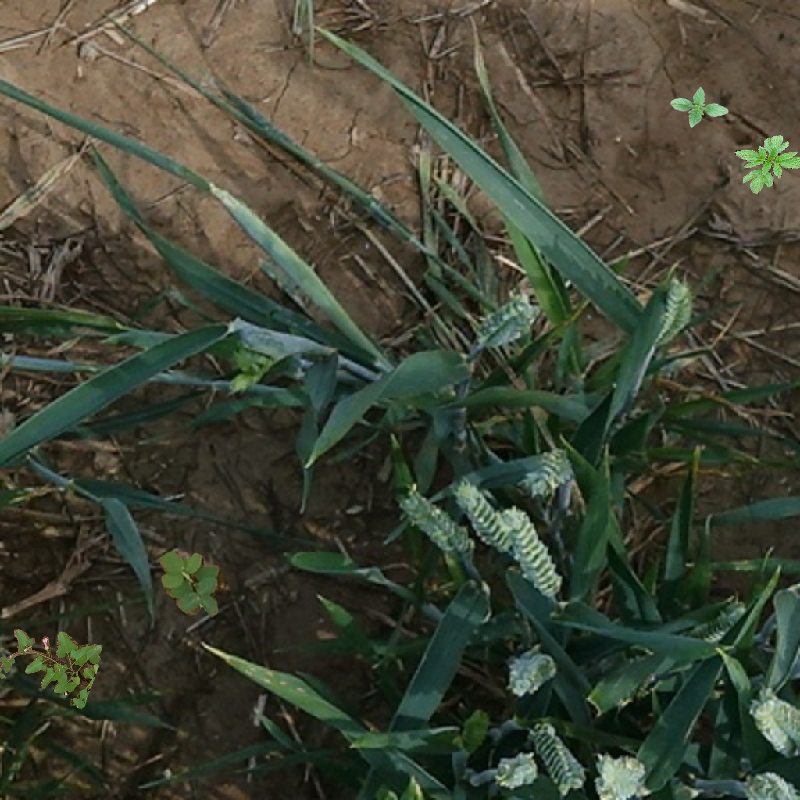spikelet: (497, 493, 569, 605), (389, 482, 466, 550), (468, 287, 539, 359), (443, 477, 509, 545), (511, 439, 579, 500), (739, 685, 800, 753), (527, 721, 583, 789), (501, 641, 561, 700), (692, 602, 750, 650), (593, 750, 649, 796), (658, 278, 694, 342), (492, 744, 539, 792), (221, 372, 264, 400), (225, 347, 264, 374)
weed: (1, 628, 106, 711), (732, 131, 800, 197), (159, 548, 223, 618), (670, 87, 729, 128)
